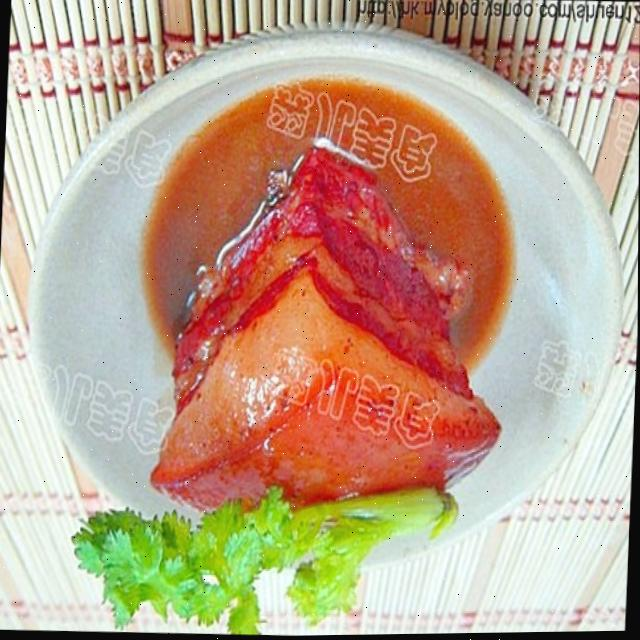牛肉菜式: (104, 103, 555, 595)
